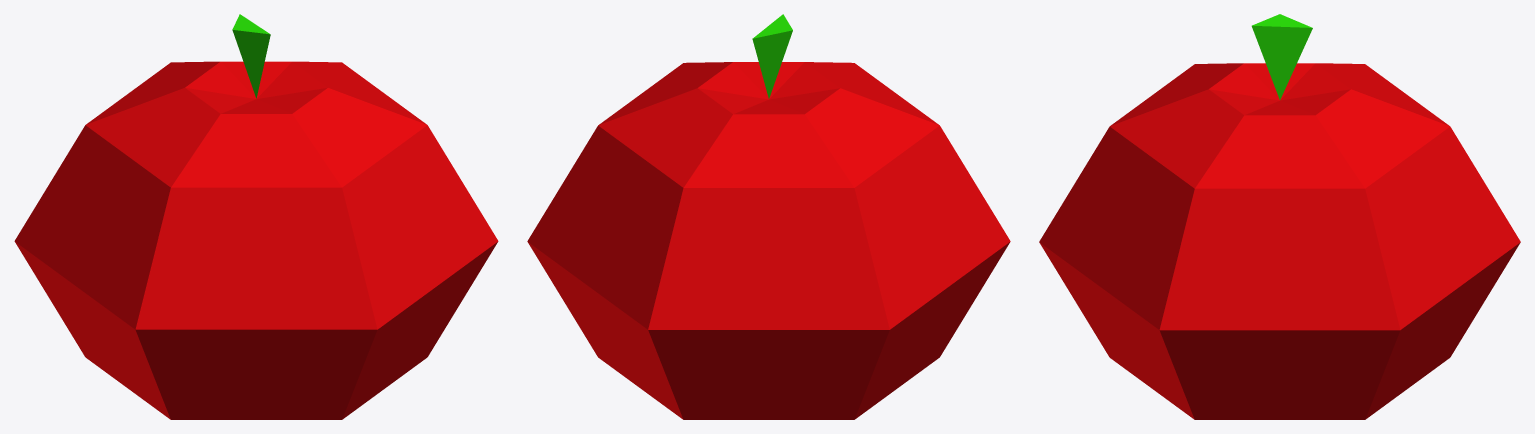
File: Tomat.glb
3 renders of one model, left to right at view 1: azimuth 30°, elevation 25°; view 2: azimuth 150°, elevation 25°; view 3: azimuth 270°, elevation 25°, orthographic.
Visible parts, largest first — view 1: Tomato; view 2: Tomato; view 3: Tomato.
Boxes of the visible parts, x1,y1,x2,y2 form: Tomato: (14, 14, 498, 419); Tomato: (527, 14, 1010, 419); Tomato: (1039, 14, 1520, 419).
Size of the model in its own units: 1.73 by 1.74 by 2.
